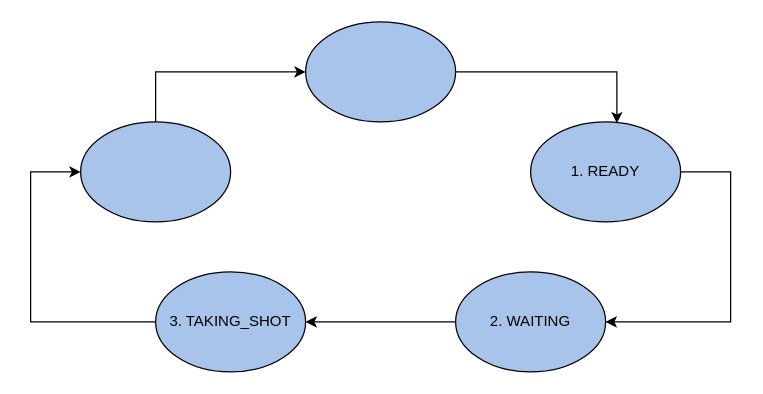
The diagram is 763 pixels wide and 394 high, and some of its shapes have lost their labels. Each missing label, with the centre of its shape:
0. NOT_READY: (380,71)
4. SHOT_TAKEN: (155,171)
